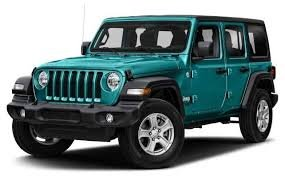mobil: (11, 5, 274, 170)
